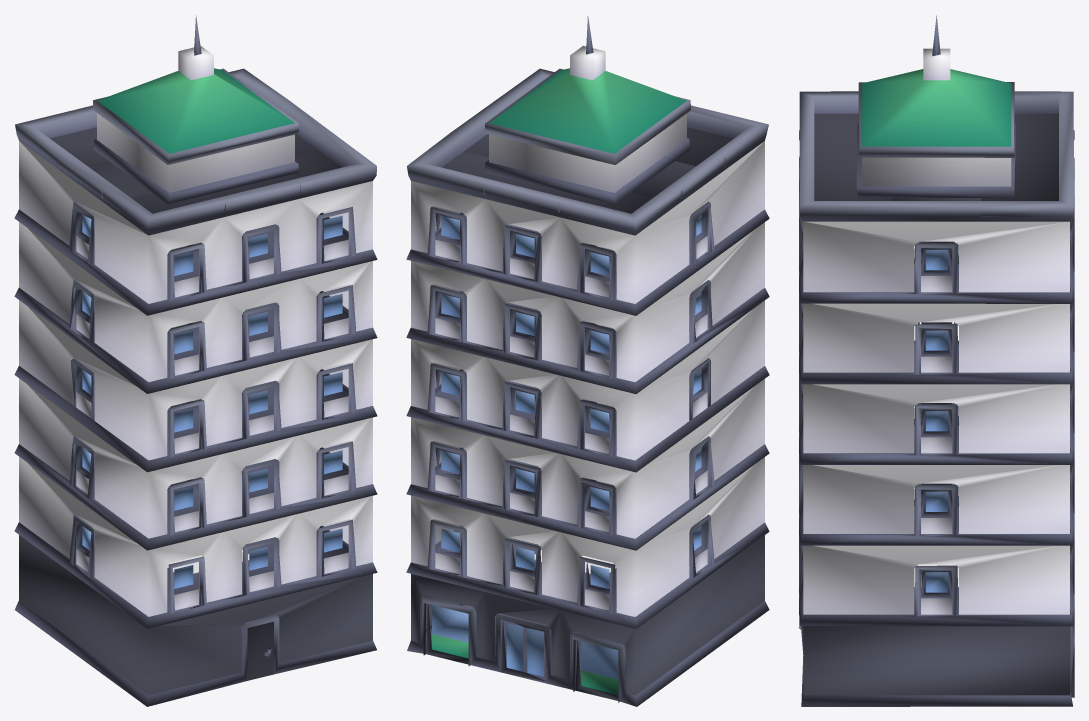
File: tower-m-medium.glb
The picture shows the model from 3 angles, left to right: view 1: azimuth 30°, elevation 25°; view 2: azimuth 150°, elevation 25°; view 3: azimuth 270°, elevation 25°; orthographic projection. The views are drawn at different scales.
Visible parts, largest first — view 1: building-m baked; view 2: building-m baked; view 3: building-m baked.
Boxes of the visible parts, box(x1,y1,x2,y2) form: building-m baked: box(14, 15, 377, 706); building-m baked: box(406, 16, 769, 706); building-m baked: box(798, 15, 1074, 706).
Bounding box in the file's own units: 11.02 × 28 × 11.04.
Materials: 1 (1 with a texture image).
